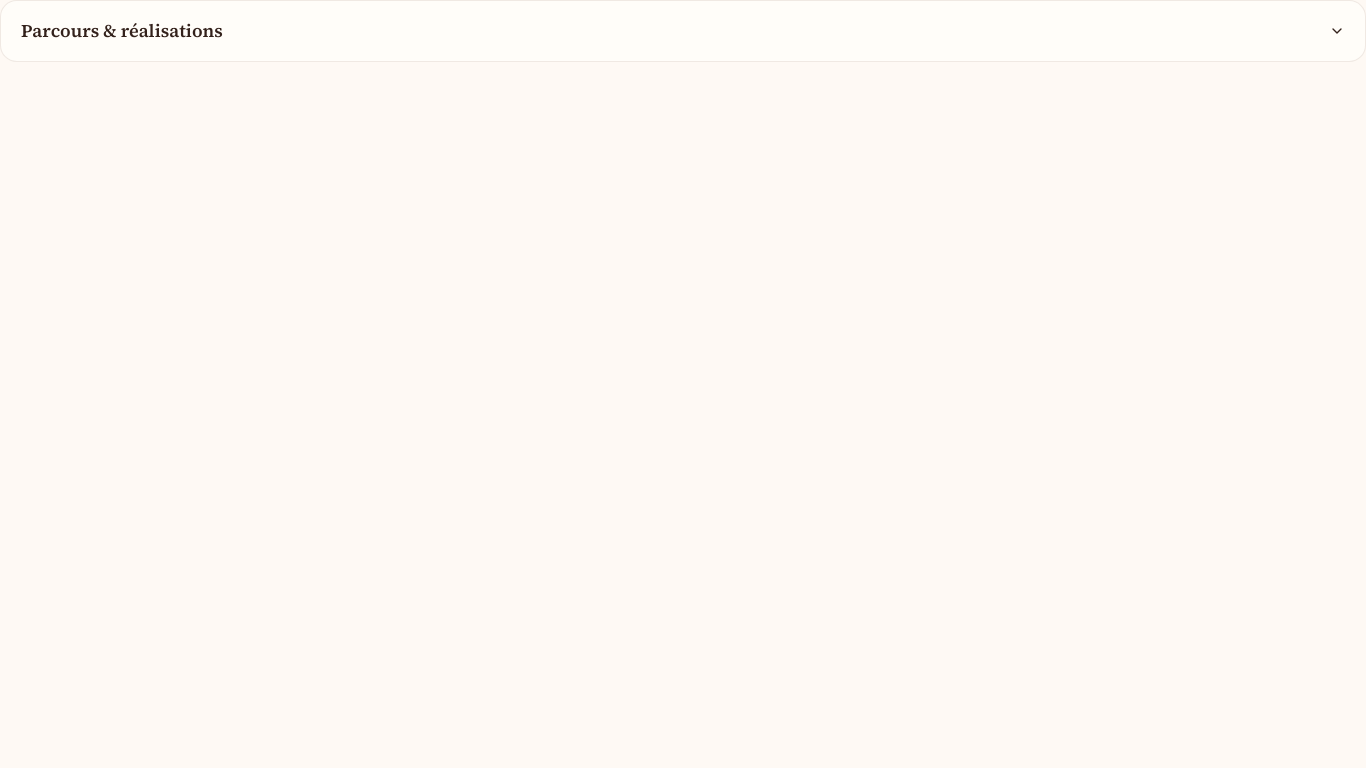
Test: ParcoursContentForm › renders the form with the initial data
Step 1. Click the button "Parcours & réalisations" → (122, 30), box [1,1,1365,61]
(page scrolled)
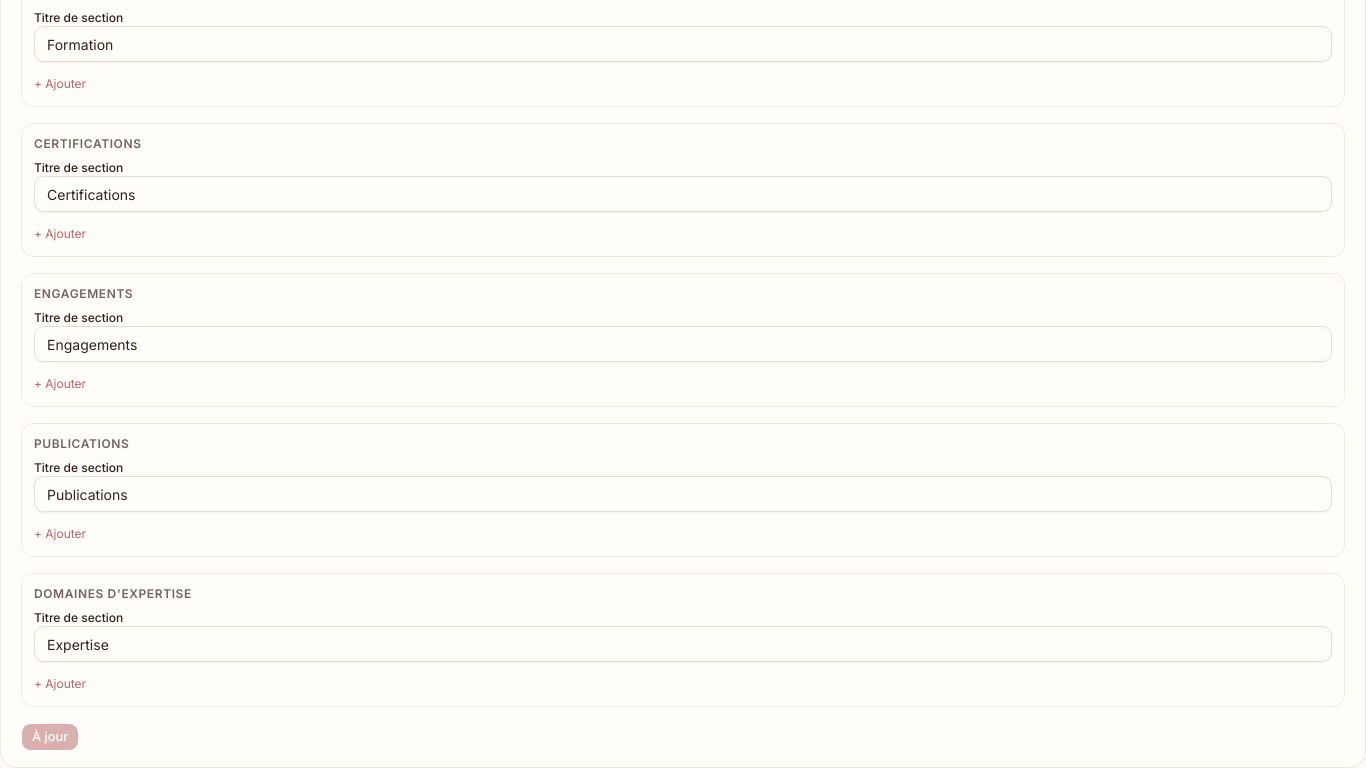
Expected: the button "À jour" is disabled, [21,723,79,751]
